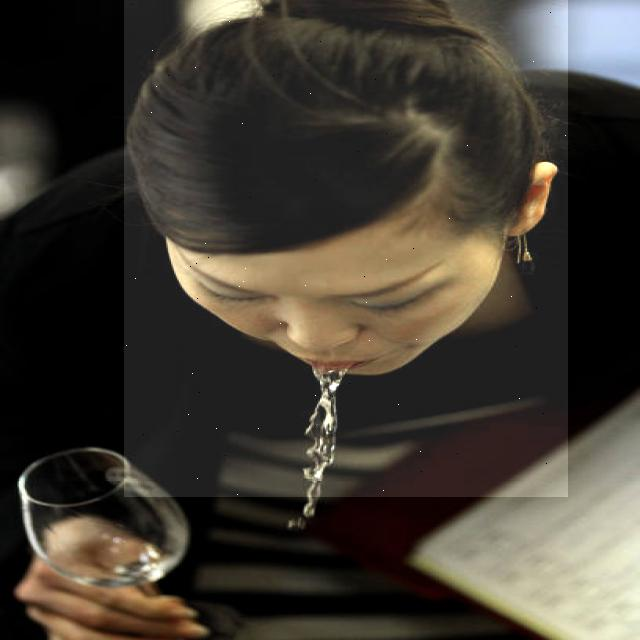Spitting: (124, 0, 568, 497)
